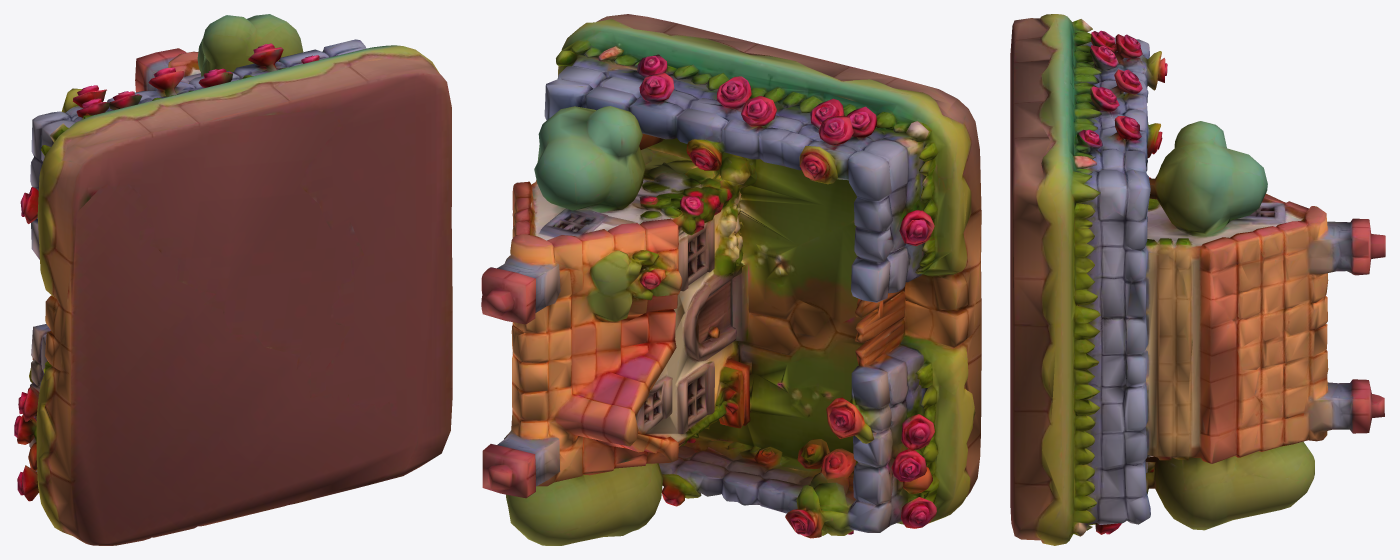
3 renders of one model, left to right at view 1: azimuth 30°, elevation 25°; view 2: azimuth 150°, elevation 25°; view 3: azimuth 270°, elevation 25°, orthographic. The views are drawn at different scales.
Parts seen in each view (by area): view 1: material; view 2: material; view 3: material.
Part boxes in pixels (<box>): material: <box>14,14,452,545</box>; material: <box>481,14,981,545</box>; material: <box>1010,14,1385,545</box>.
Size of the model in its own units: 0.9746 by 1 by 0.852.
1 material, 1 textured.
